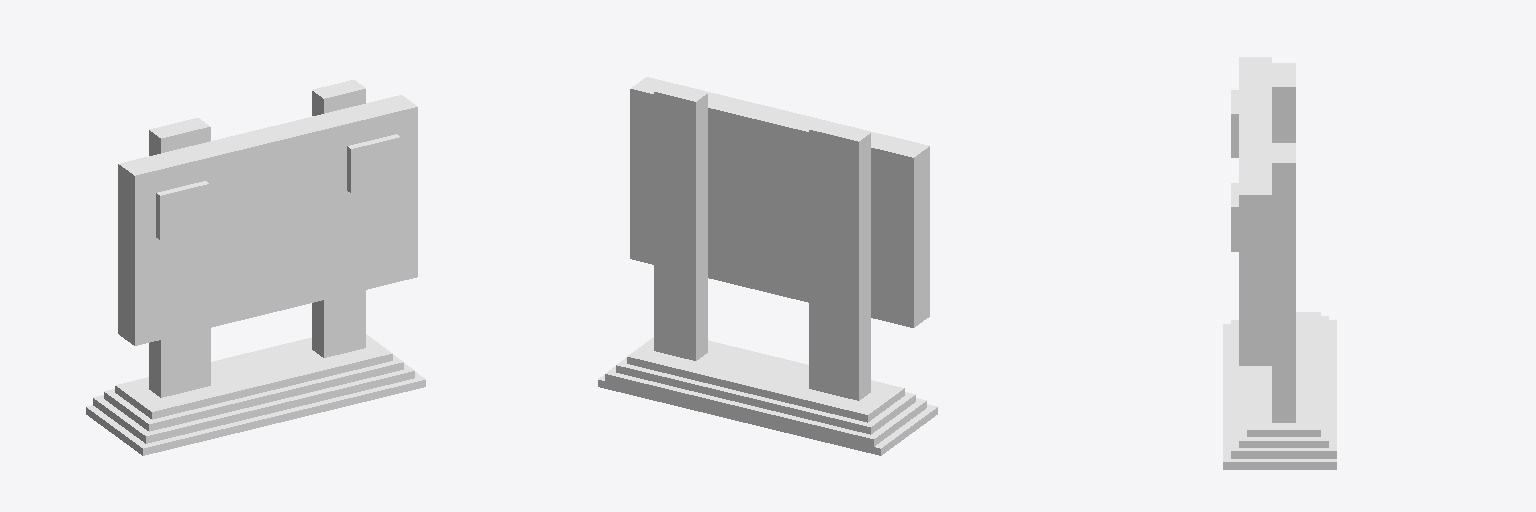
File: backup.obj
3 renders of one model, left to right at view 1: azimuth 30°, elevation 25°; view 2: azimuth 150°, elevation 25°; view 3: azimuth 270°, elevation 25°, orthographic.
Visible parts, largest first — view 1: object 1; view 2: object 1; view 3: object 1.
Part boxes in pixels (bbox=[...]): object 1: bbox=[86, 80, 425, 455]; object 1: bbox=[598, 77, 937, 455]; object 1: bbox=[1223, 57, 1336, 469].
Bounding box in the file's own units: 8 × 7.8 × 2.8.